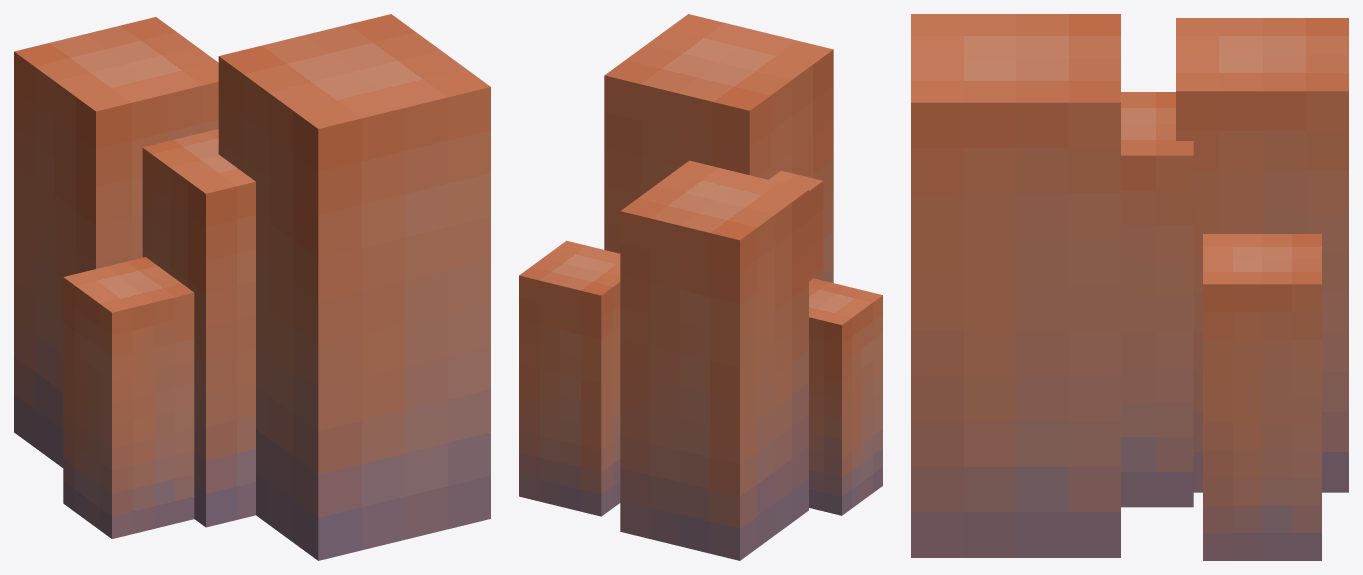
Rendered from sphalerite_crystal_five.obj.
The picture shows the model from 3 angles, left to right: view 1: azimuth 30°, elevation 25°; view 2: azimuth 150°, elevation 25°; view 3: azimuth 270°, elevation 25°; orthographic projection. The views are drawn at different scales.
Visible parts, largest first — view 1: Crystal4_Cube.000, Crystal1_Cube.003, Crystal2_Cube.002, Crystal3_Cube.001; view 2: Crystal1_Cube.003, Crystal4_Cube.000, Crystal5_Cube.008, Crystal2_Cube.002, Crystal3_Cube.001; view 3: Crystal4_Cube.000, Crystal1_Cube.003, Crystal5_Cube.008, Crystal3_Cube.001.
Part boxes in pixels (x1,y1,x2,y2): Crystal4_Cube.000: [218, 14, 490, 560]; Crystal1_Cube.003: [14, 17, 218, 467]; Crystal2_Cube.002: [63, 257, 194, 538]; Crystal3_Cube.001: [142, 129, 255, 527]; Crystal1_Cube.003: [620, 160, 808, 560]; Crystal4_Cube.000: [604, 14, 833, 282]; Crystal5_Cube.008: [519, 240, 620, 516]; Crystal2_Cube.002: [809, 278, 882, 515]; Crystal3_Cube.001: [769, 170, 823, 281]; Crystal4_Cube.000: [911, 14, 1120, 557]; Crystal1_Cube.003: [1176, 18, 1348, 492]; Crystal5_Cube.008: [1203, 234, 1321, 560]; Crystal3_Cube.001: [1121, 92, 1193, 507].
Size of the model in its own units: 0.4881 by 0.6473 by 0.5645.
